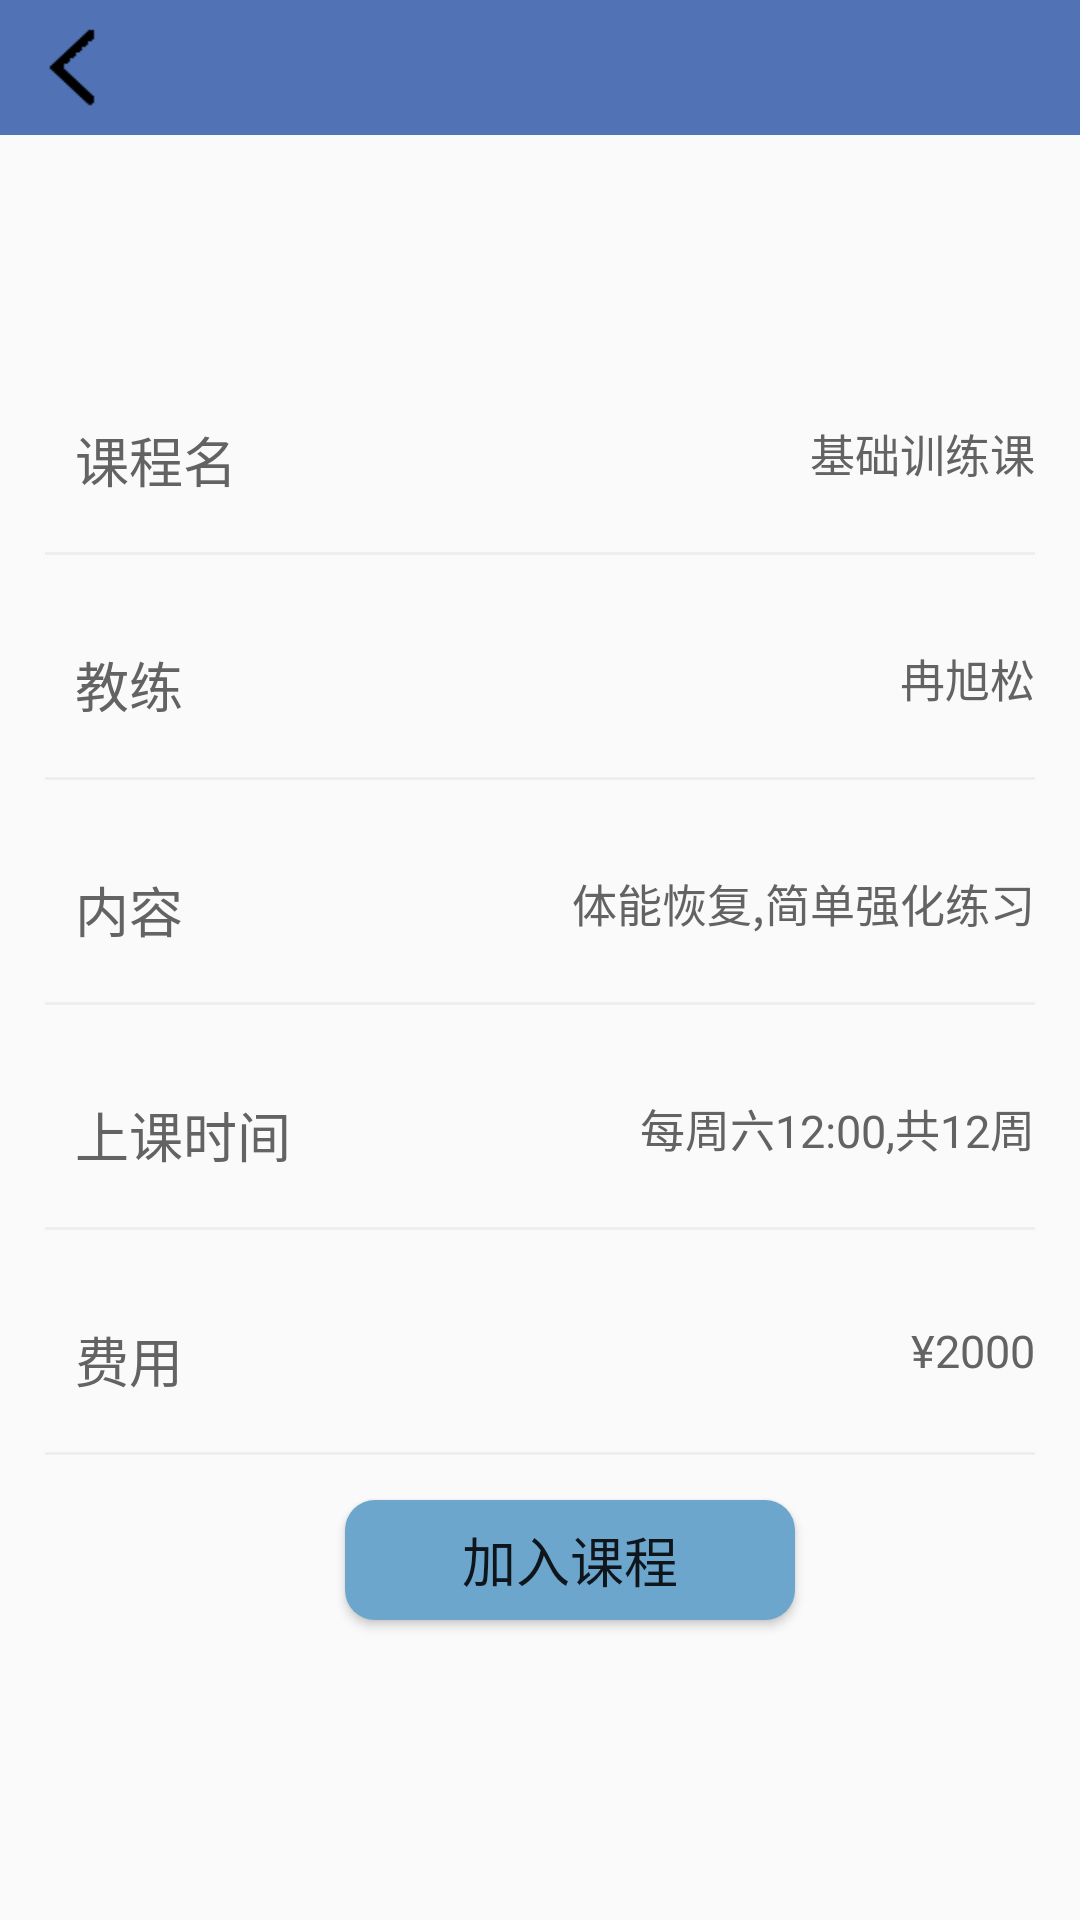

Where to tap for icons on this 1080*1920 app screen, as (x,y):
fanhui: (72,67)
